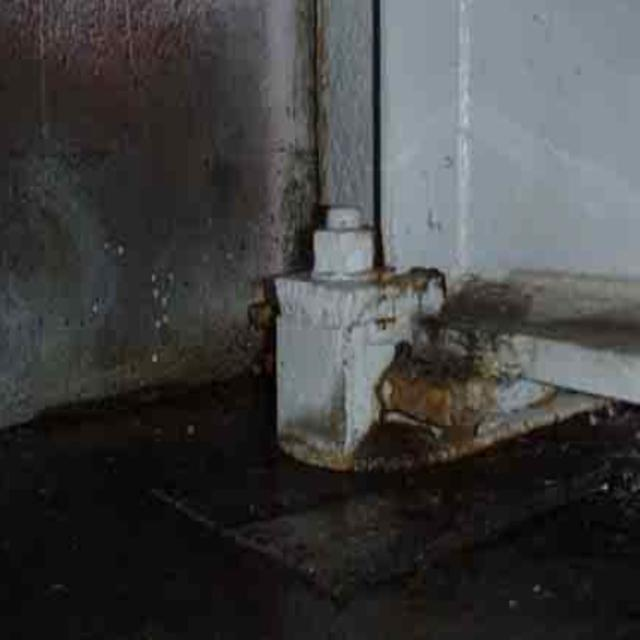corrosion: (348, 257, 532, 473)
